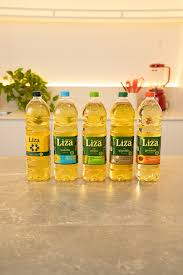óleo_de_cozinha: (136, 92, 166, 181), (81, 91, 108, 181), (23, 92, 50, 180), (109, 92, 135, 182), (55, 91, 80, 181)
